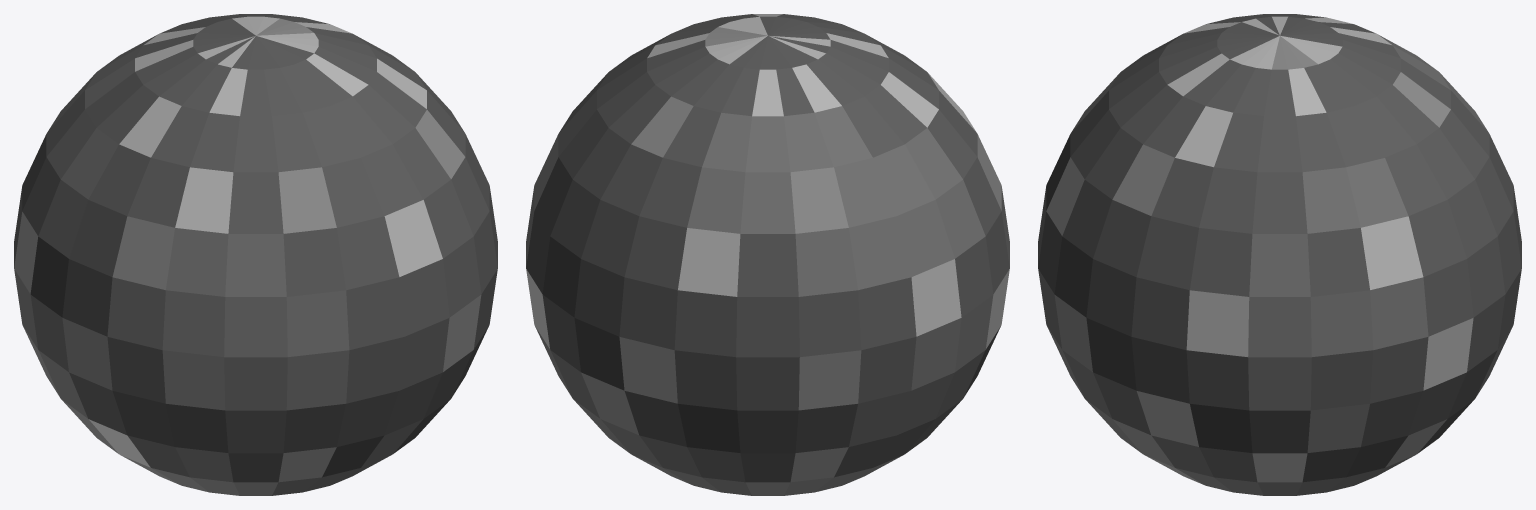
Rendered from asteroid.gltf.
3 renders of one model, left to right at view 1: azimuth 30°, elevation 25°; view 2: azimuth 150°, elevation 25°; view 3: azimuth 270°, elevation 25°, orthographic.
Parts seen in each view (by area): view 1: sphere; view 2: sphere; view 3: sphere.
Part boxes in pixels (x1=…): sphere: x1=14, y1=14, x2=497, y2=495; sphere: x1=526, y1=14, x2=1009, y2=495; sphere: x1=1038, y1=14, x2=1521, y2=495.
Bounding box in the file's own units: 1 × 1 × 1.
Materials: 1 (1 with a texture image).
